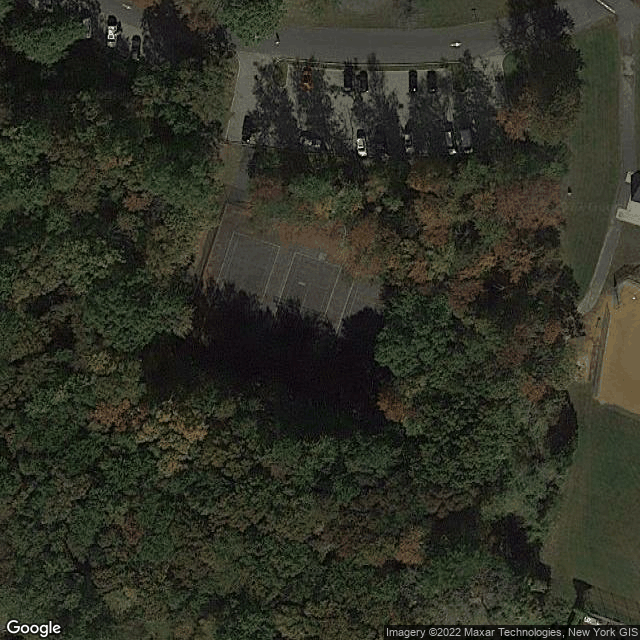Court: (197, 231, 281, 351), (264, 249, 342, 368)
